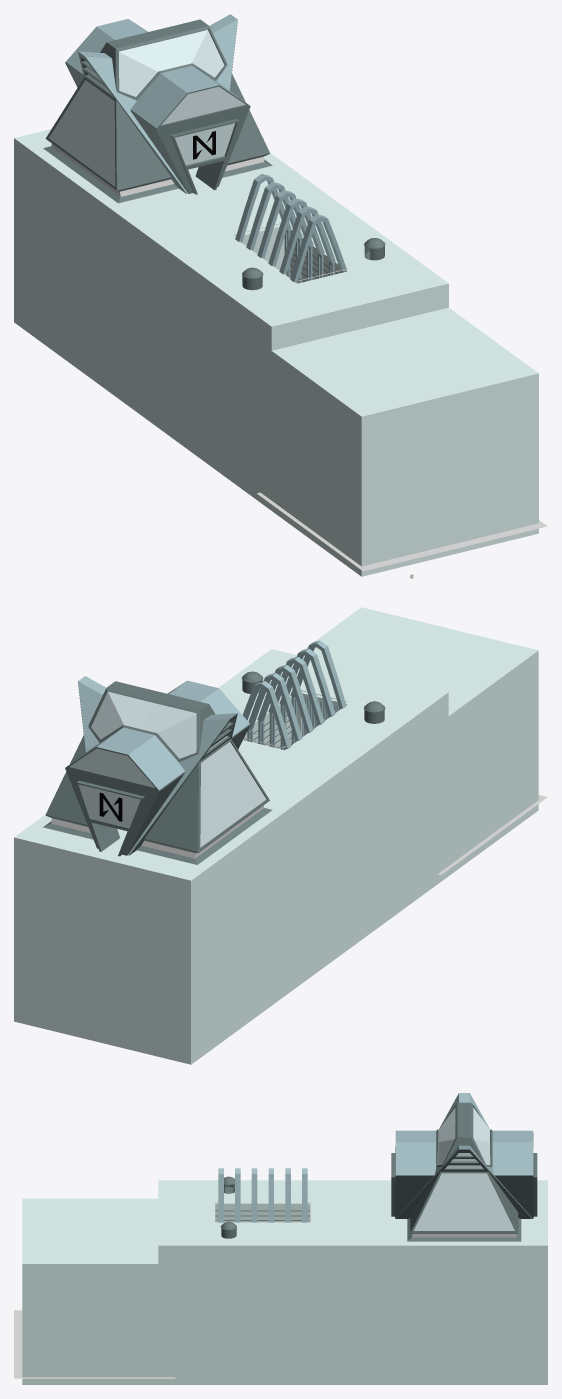
File: Centro_futurista_7.fbx
The picture shows the model from 3 angles, top to bottom: view 1: azimuth 30°, elevation 25°; view 2: azimuth 150°, elevation 25°; view 3: azimuth 270°, elevation 25°; orthographic projection. The views are drawn at different scales.
Parts seen in each view (by area): view 1: Cube, Cube.001, Cube.003, Cube.002, Plane.011, Cylinder.001; view 2: Cube, Cube.001, Cube.003, Cube.002, Cylinder.001; view 3: Cube, Cube.001, Cube.002, Plane.011, Cylinder.001.
Part boxes in pixels (bbox=[...]): Cube: bbox=[14, 129, 538, 576]; Cube.001: bbox=[43, 14, 272, 203]; Cube.003: bbox=[235, 174, 320, 282]; Cube.002: bbox=[262, 174, 346, 283]; Plane.011: bbox=[257, 492, 547, 571]; Cylinder.001: bbox=[242, 238, 385, 290]; Cube: bbox=[14, 607, 538, 1064]; Cube.001: bbox=[43, 676, 272, 864]; Cube.003: bbox=[261, 640, 346, 749]; Cube.002: bbox=[243, 640, 319, 749]; Cylinder.001: bbox=[241, 671, 385, 723]; Cube: bbox=[22, 1180, 547, 1384]; Cube.001: bbox=[391, 1093, 537, 1241]; Cube.002: bbox=[218, 1168, 307, 1222]; Plane.011: bbox=[14, 1310, 175, 1378]; Cylinder.001: bbox=[220, 1176, 236, 1238].
Size of the model in its own units: 9193 by 15236 by 30434.
